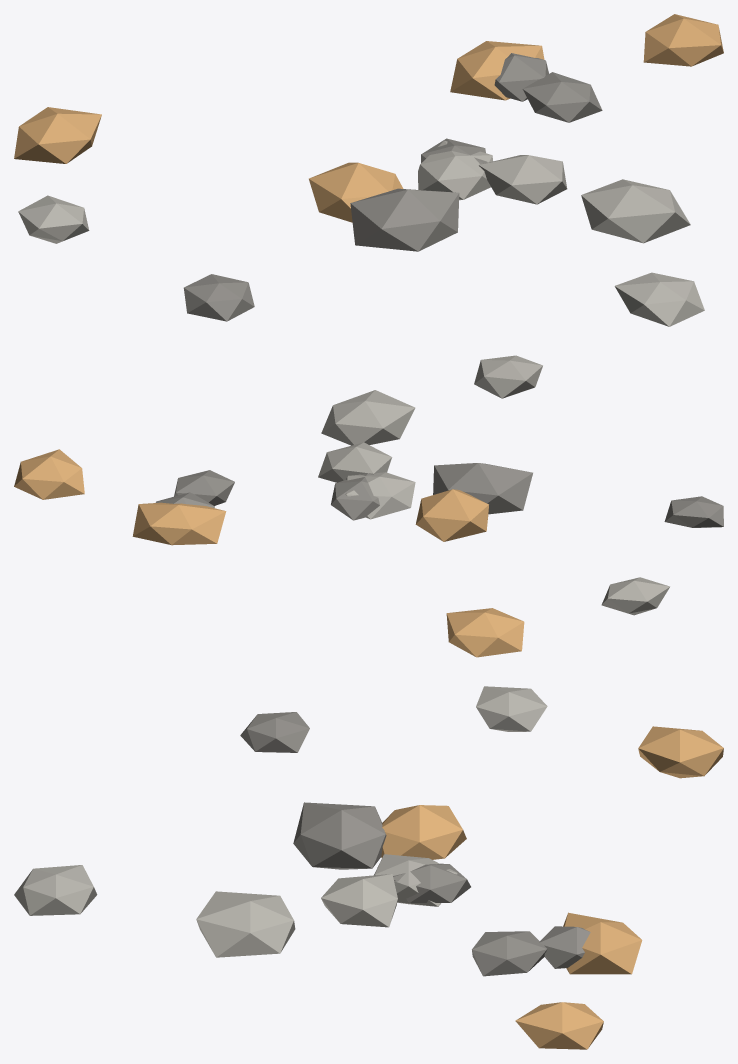
File: Pebbles_Warm.fbx
3 renders of one model, top to bottom at view 1: azimuth 30°, elevation 25°; view 2: azimuth 150°, elevation 25°; view 3: azimuth 270°, elevation 25°, orthographic. The views are drawn at different scales.
Visible parts, largest first — view 1: Pebbles_Warm; view 2: Pebbles_Warm; view 3: Pebbles_Warm.
Boxes of the visible parts, x1,y1,x2,y2 form: Pebbles_Warm: [14, 14, 723, 326]; Pebbles_Warm: [14, 355, 723, 657]; Pebbles_Warm: [14, 686, 723, 1049].
Bounding box in the file's own units: 1.09 × 0.0878 × 0.9412.
